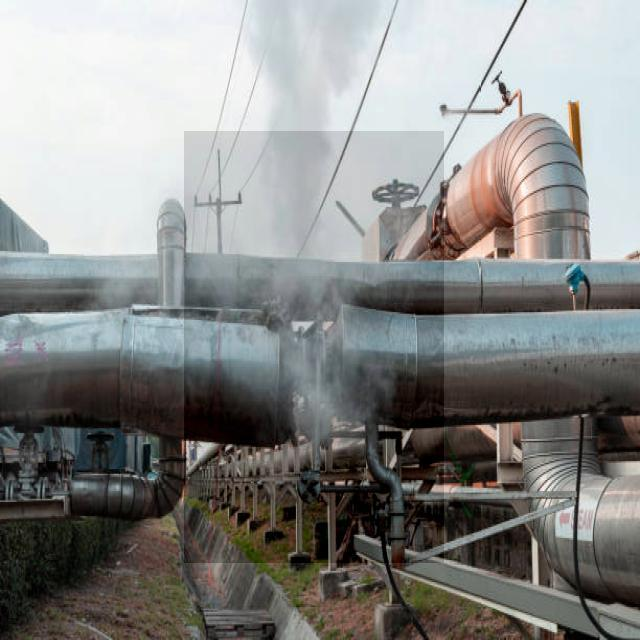corrosion: (226, 157, 406, 455)
